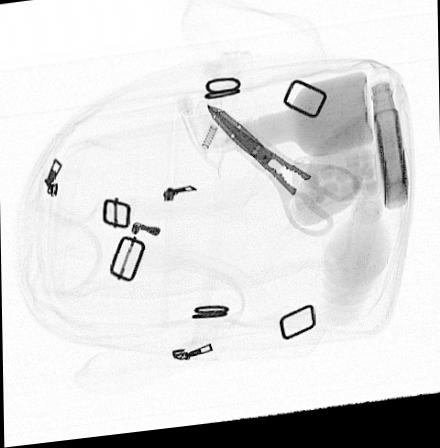Scissors: (205, 108, 363, 245)
